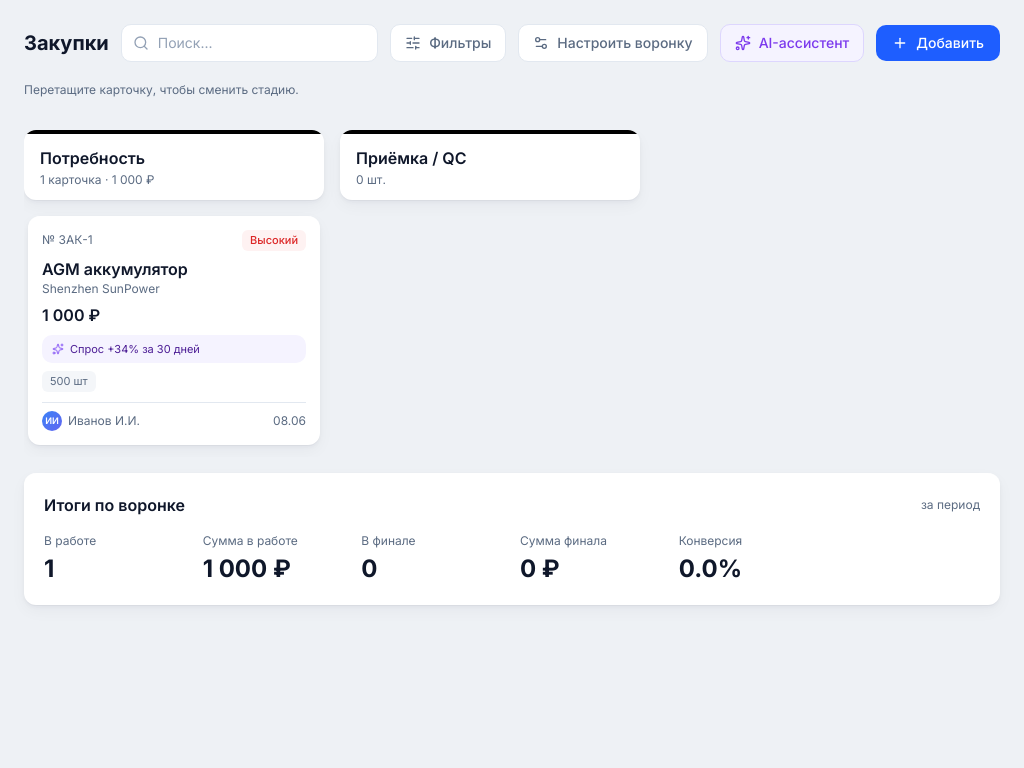
Test: FunnelBoard › drawer показывает BOM и загрузку оборудования (производство)
Click the text "AGM аккумулятор" at (115, 268), box [42, 258, 188, 278]
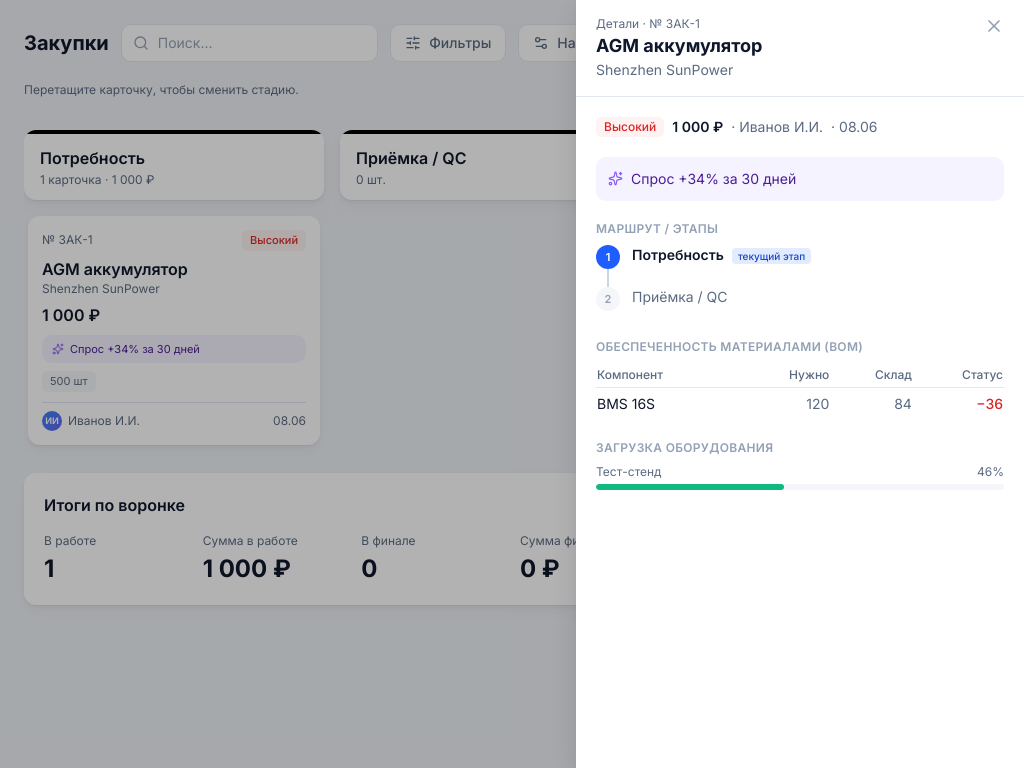
Expected: the text "Обеспеченность материалами (BOM)" is shown, [596, 339, 863, 354]
Expected: the text "BMS 16S" is shown, [596, 388, 740, 420]
Expected: the text "Загрузка оборудования" is shown, [596, 440, 773, 455]
